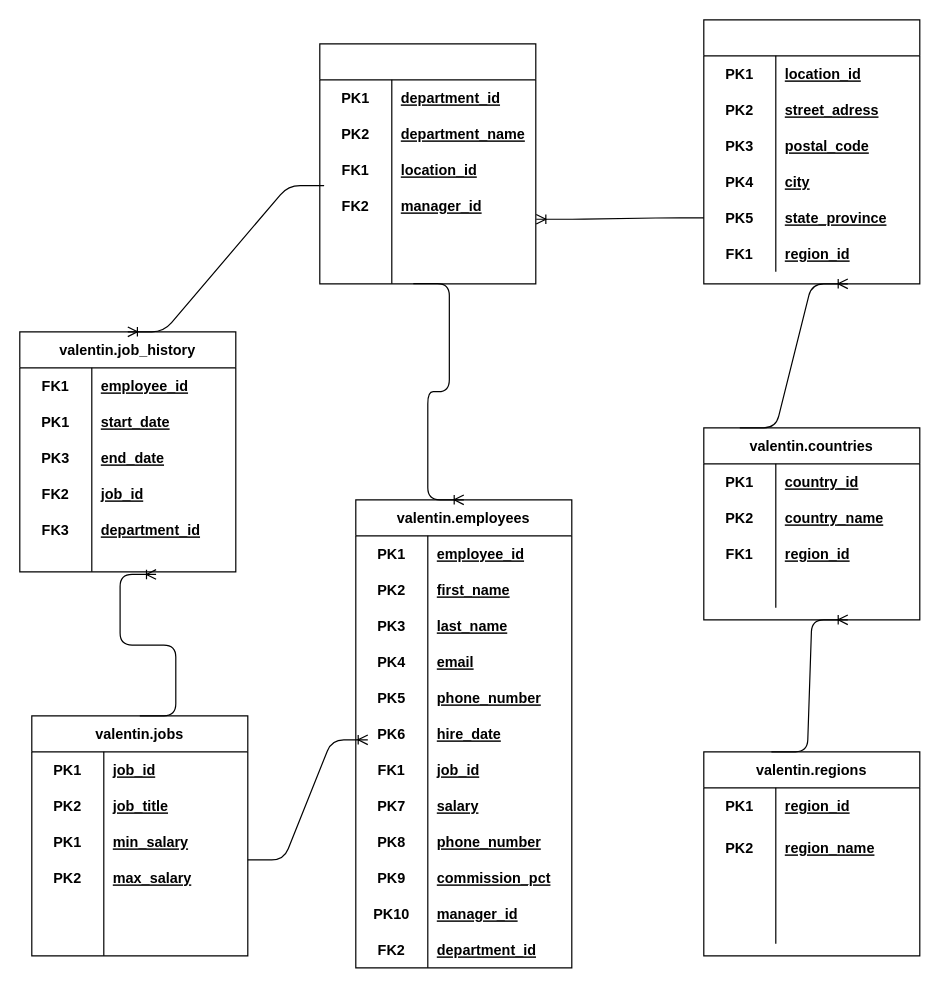
Image size: 940x988. Some labels were removed from this diagram. The box of each missing label's shape, as (x1, y1, x2, y2) in pixels:
valentin.departments: (319, 43, 536, 284)
valentin.locations: (703, 19, 920, 284)
